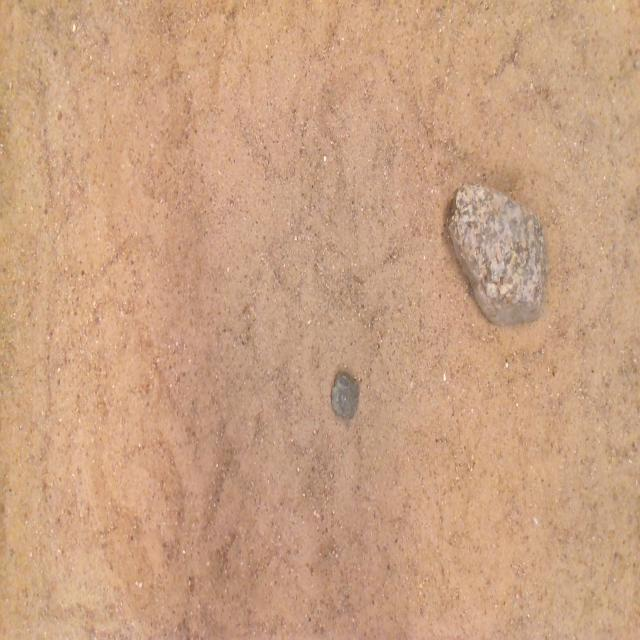rock: (448, 184, 547, 324), (331, 373, 359, 420)
